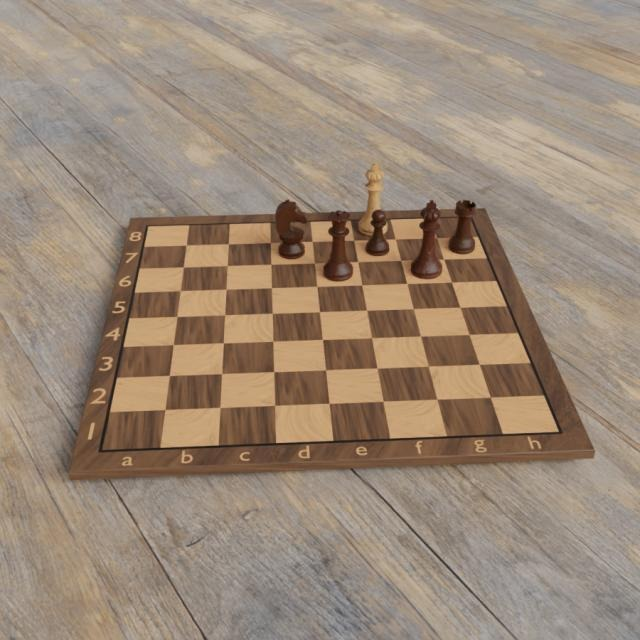black-king: (408, 199, 443, 280)
black-knight: (274, 199, 309, 261)
black-pawn: (365, 208, 391, 257)
black-queen: (321, 209, 354, 283)
black-rook: (446, 200, 479, 256)
white-king: (357, 161, 390, 238)
